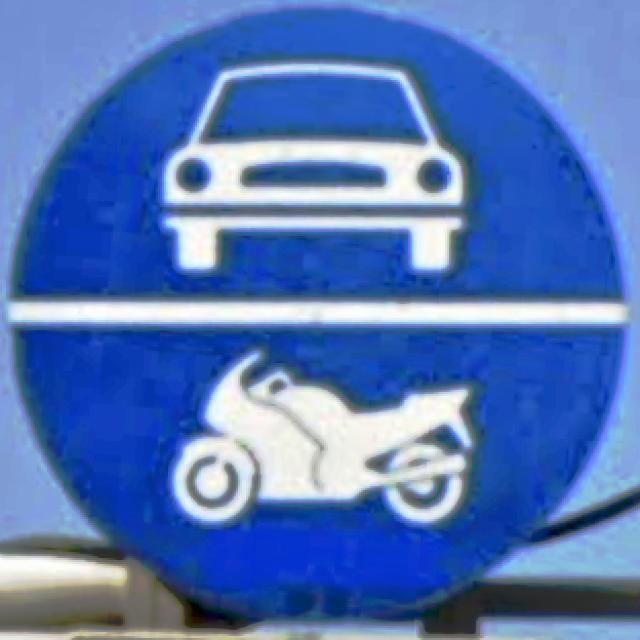carmotorcycle: (6, 6, 630, 624)
